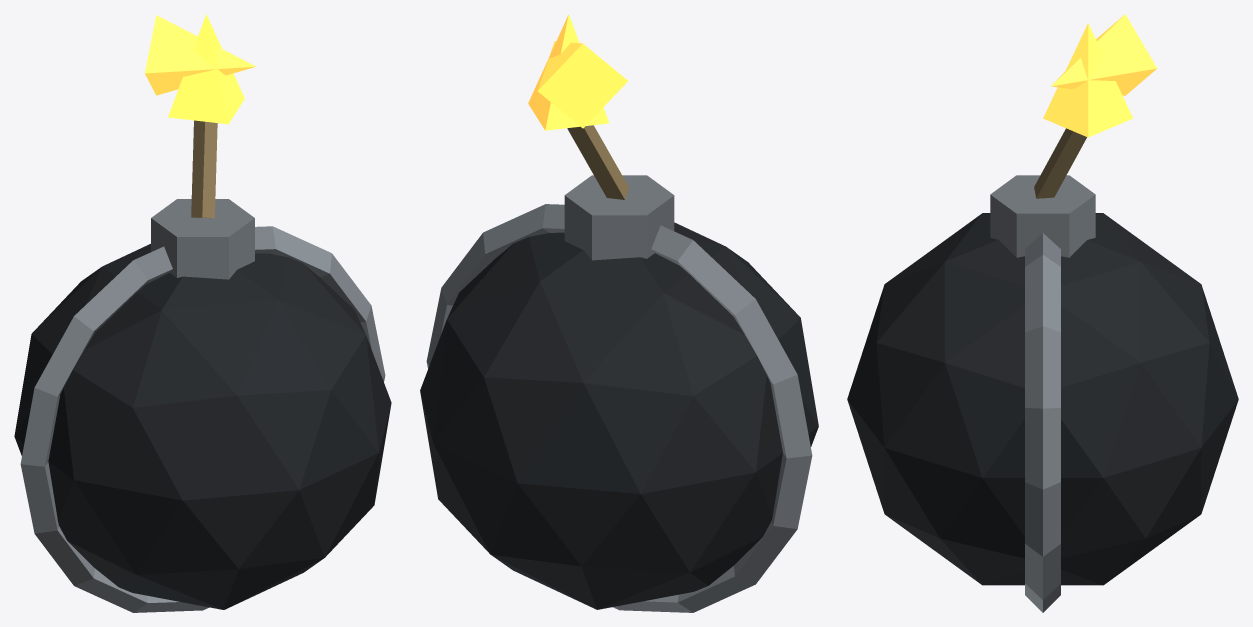
Rendered from bomb.glb.
The picture shows the model from 3 angles, left to right: view 1: azimuth 30°, elevation 25°; view 2: azimuth 150°, elevation 25°; view 3: azimuth 270°, elevation 25°; orthographic projection. The views are drawn at different scales.
Visible parts, largest first — view 1: Bomb; view 2: Bomb; view 3: Bomb.
Boxes of the visible parts, x1,y1,x2,y2 form: Bomb: [14, 14, 391, 612]; Bomb: [420, 14, 818, 612]; Bomb: [847, 14, 1238, 612].
Bounding box in the file's own units: 0.284 × 0.427 × 0.26.
